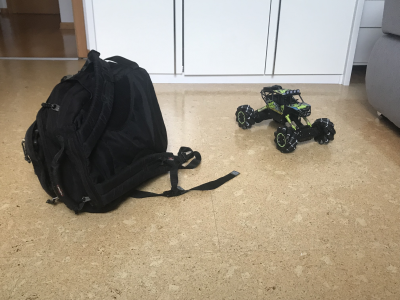remote control car: (233, 79, 338, 154)
